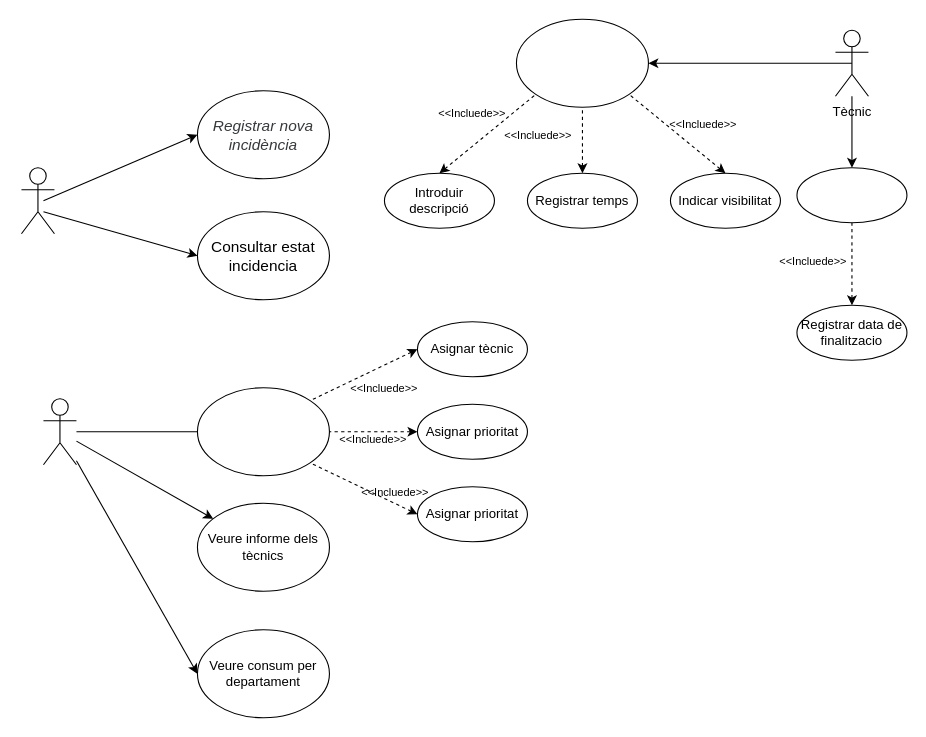
Image size: 926x737. Some labels were removed from this diagram. The centre of each missing label's shape, as x and y in pixels:
Administrador: (x=59, y=431)
Finalitzar incidencia: (x=851, y=195)
Modificar incidencia: (x=262, y=431)
Registrar actuación: (x=581, y=62)
Usuari: (x=37, y=200)
